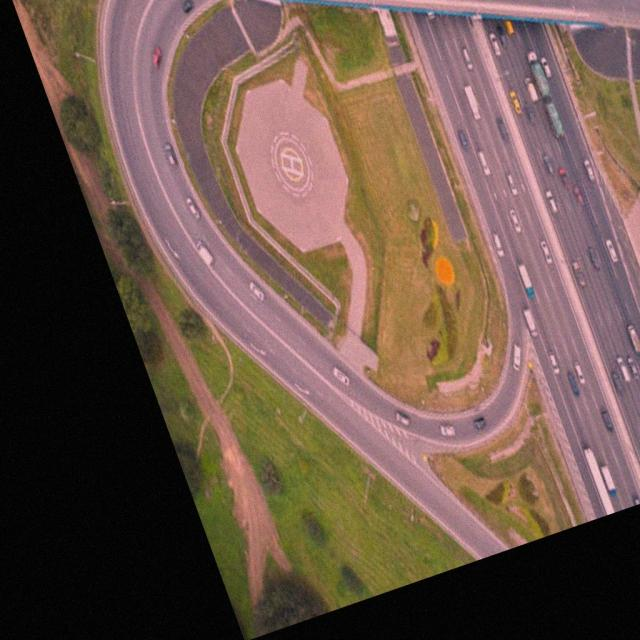helipad: (270, 133, 312, 193)
